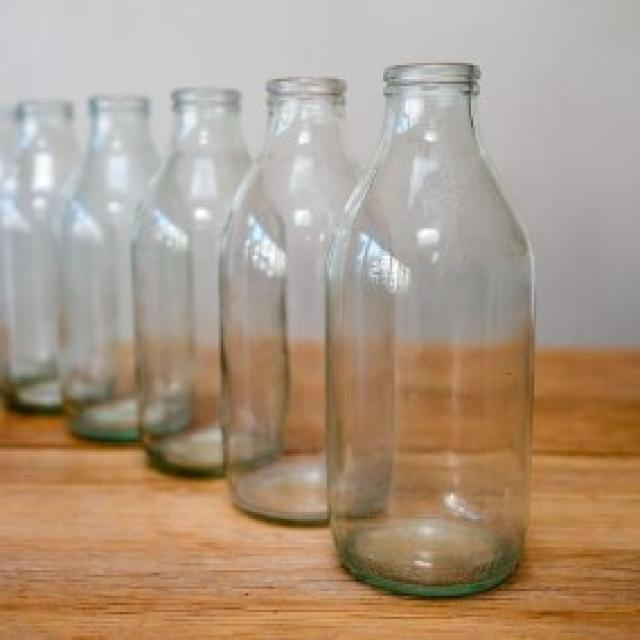electronic: (0, 61, 537, 601)
